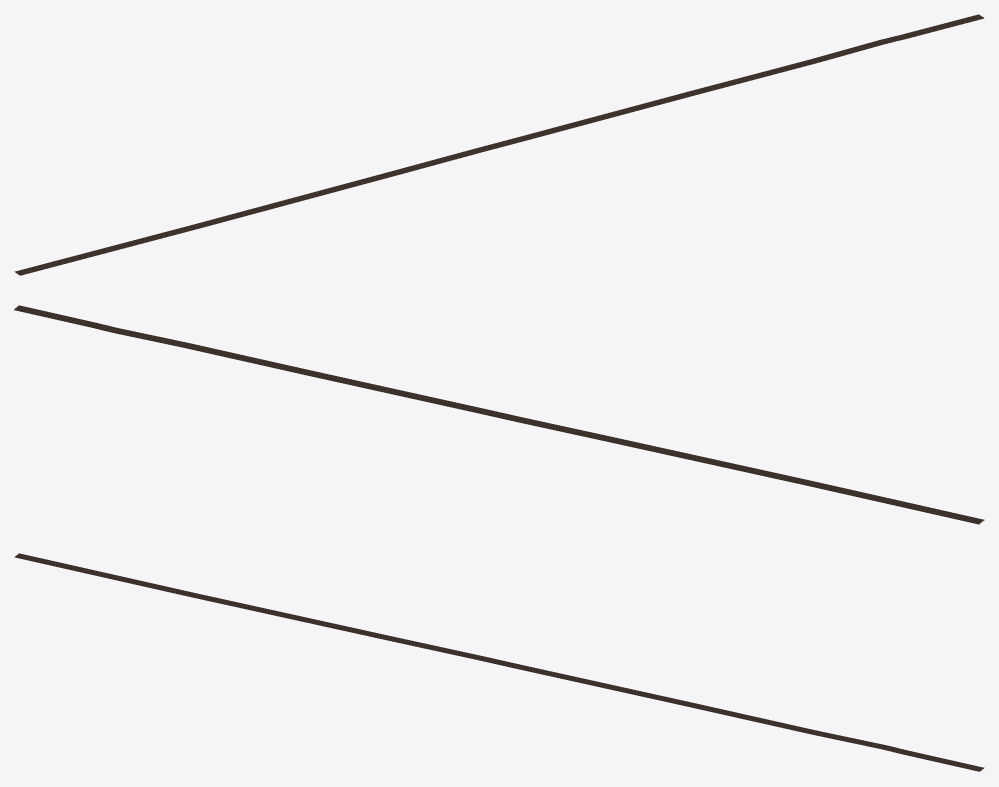
The model's file is kobe_0012.glb.
The picture shows the model from 3 angles, top to bottom: view 1: azimuth 30°, elevation 25°; view 2: azimuth 150°, elevation 25°; view 3: azimuth 330°, elevation 25°; orthographic projection. The views are drawn at different scales.
Parts seen in each view (by area): view 1: ballast_top, oxidised_rail_profiles; view 2: ballast_top, oxidised_rail_profiles, ballast_left; view 3: ballast_top, oxidised_rail_profiles.
Boxes of the visible parts, x1,y1,x2,y2 form: ballast_top: (14,14,984,275); oxidised_rail_profiles: (15,14,983,274); ballast_top: (14,305,984,523); oxidised_rail_profiles: (15,305,983,522); ballast_left: (14,309,979,524); ballast_top: (14,553,984,771); oxidised_rail_profiles: (15,553,983,770).
Size of the model in its own units: 755 by 0.819 by 37.96.
4 materials, 3 textured.
